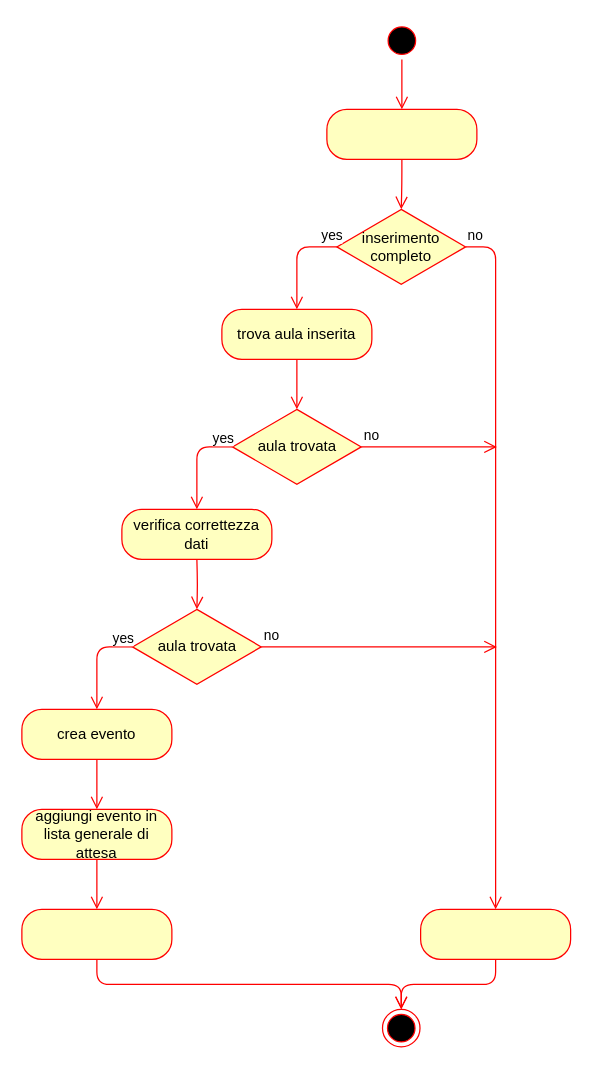
This 593x1069 diagram has some shape labels left out. The shapes that lost their labels are listed below. From the top down, each one's centre as x and y in pixels, then its label:
point (401, 133): inserimento dati richiesti
point (96, 933): successo
point (495, 933): errore
